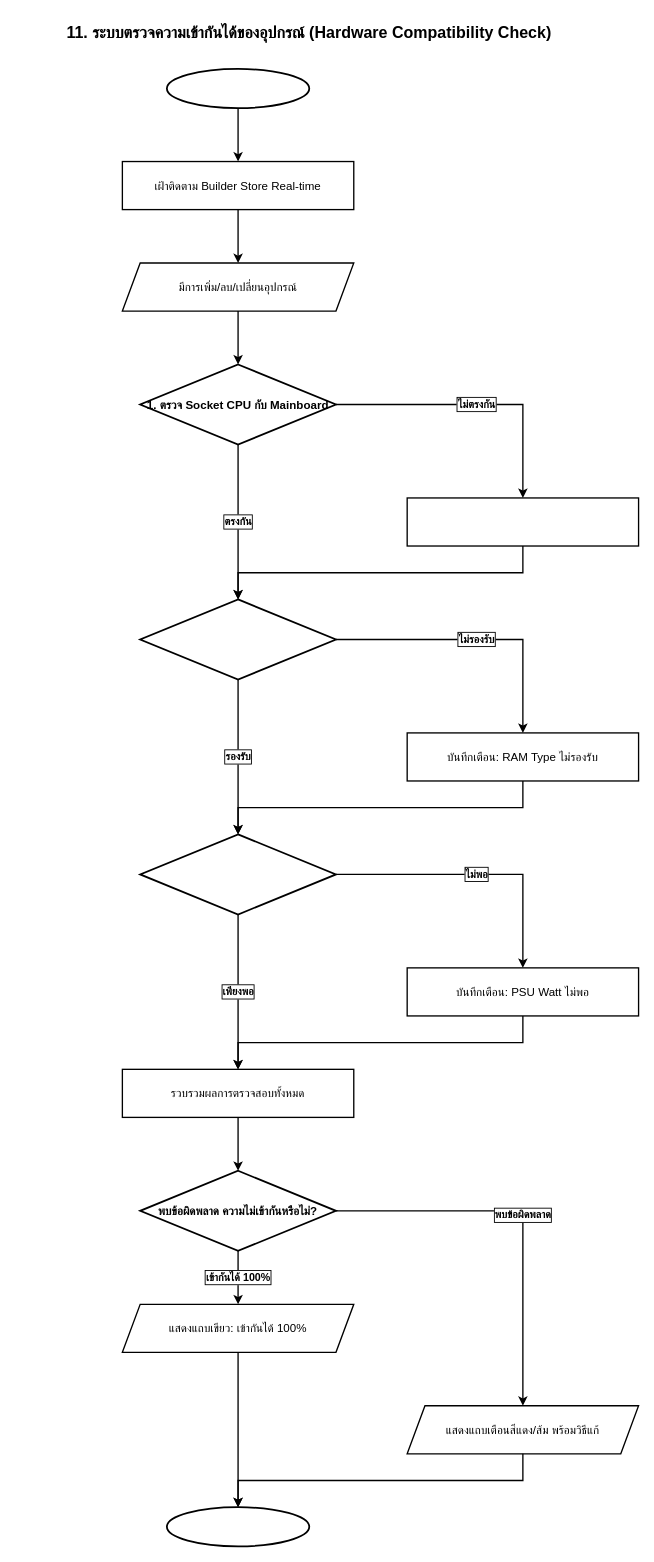
Some shapes in this 654 by 1562 pixel diagram are drawn without their labels. The shapes that lost their labels are listed below. From the top down, each one's centre as x and y in pixels, then its label:
At [238,88]: "เริ่มต้น".
At [522,521]: "บันทึกเตือน: Socket ไม่ตรงกัน".
At [237,639]: "2. ตรวจ RAM Type กับ Mainboard".
At [237,874]: "3. คำนวณ TDP รวมกับ PSU Watt".
At [238,1526]: "จบการทำงาน".
